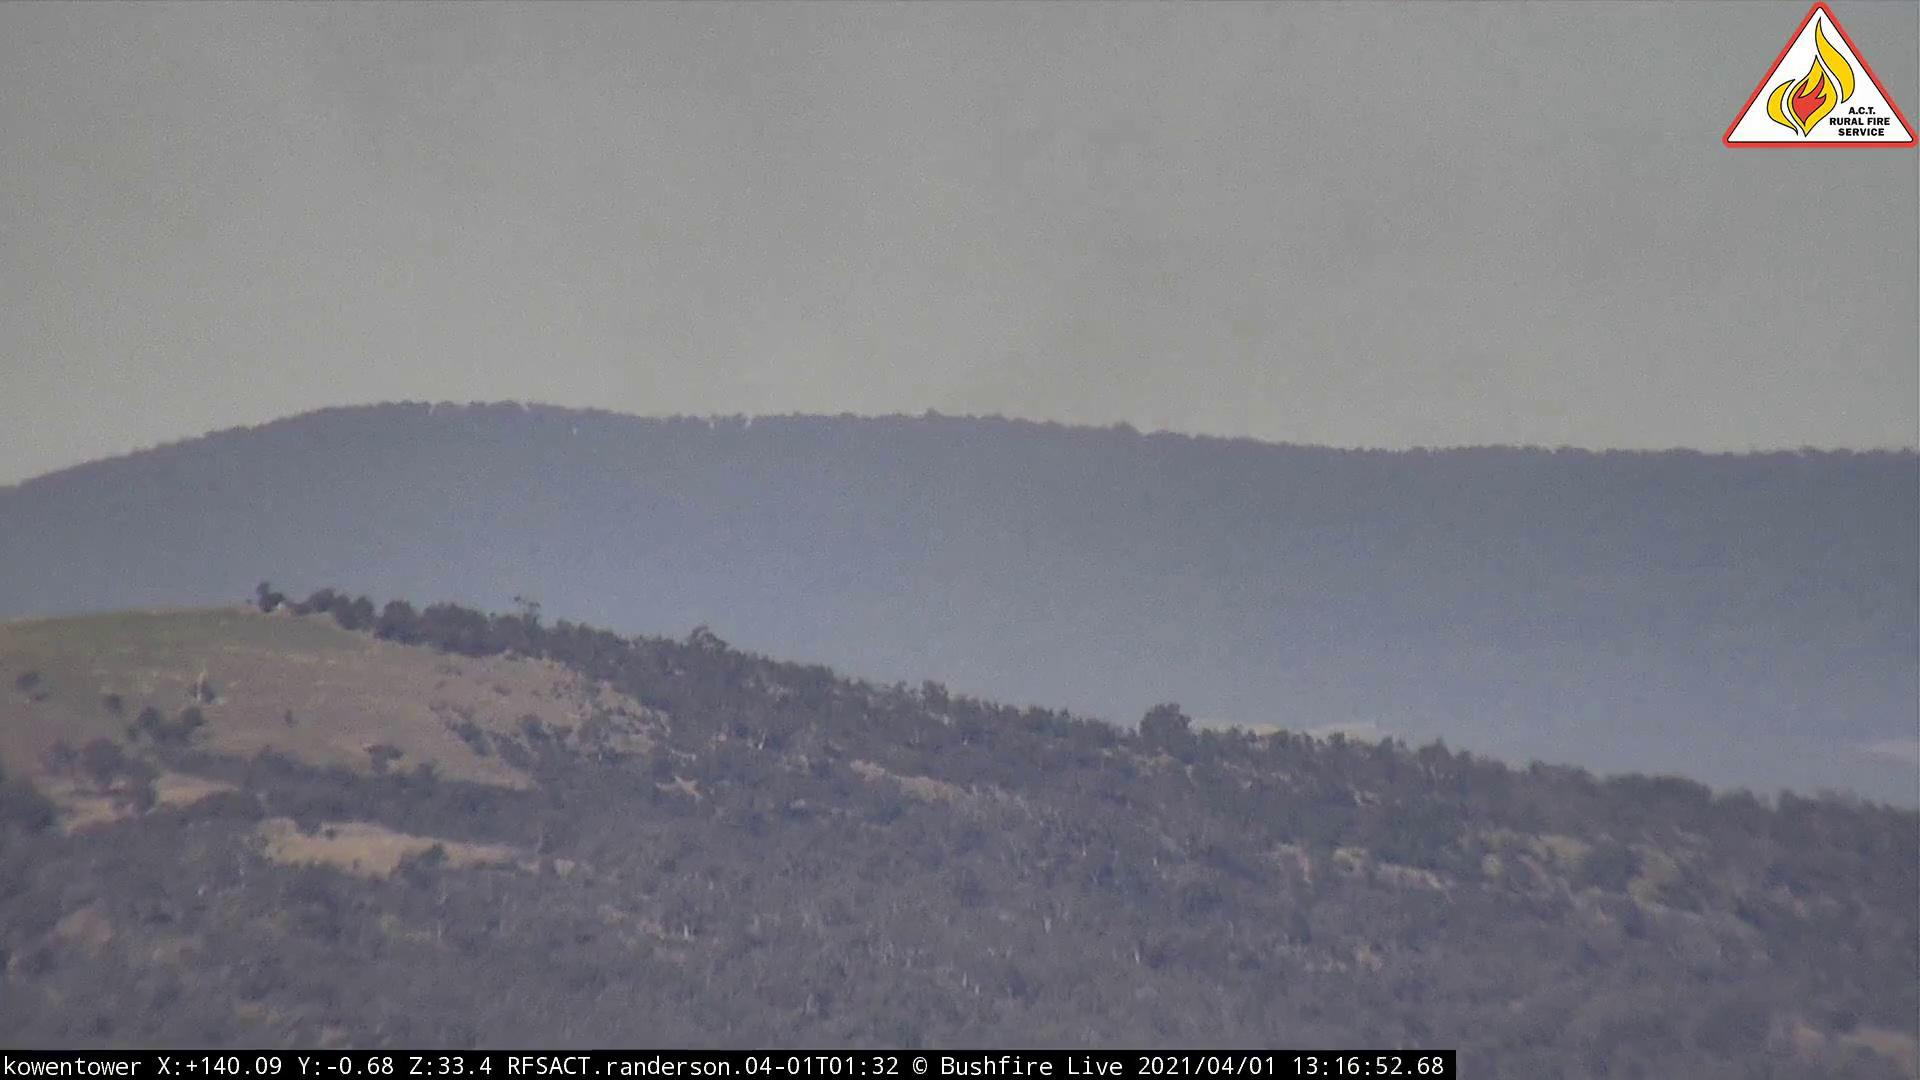Smoke: (800, 135, 1646, 822)
